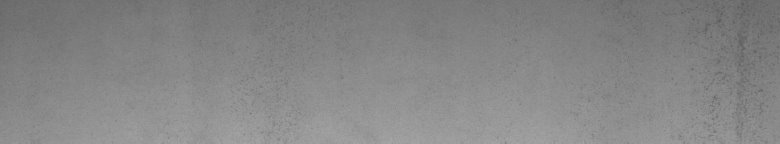ib: (704, 13, 763, 104)
